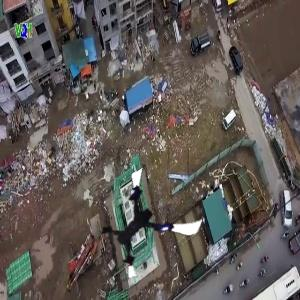drone: (94, 169, 195, 270)
